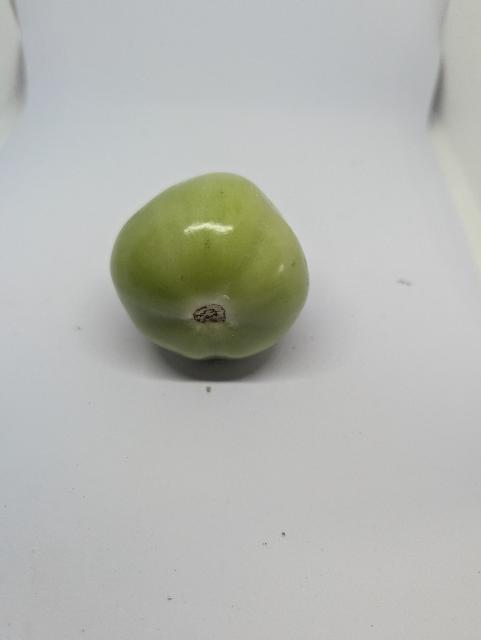green: (94, 169, 331, 385)
